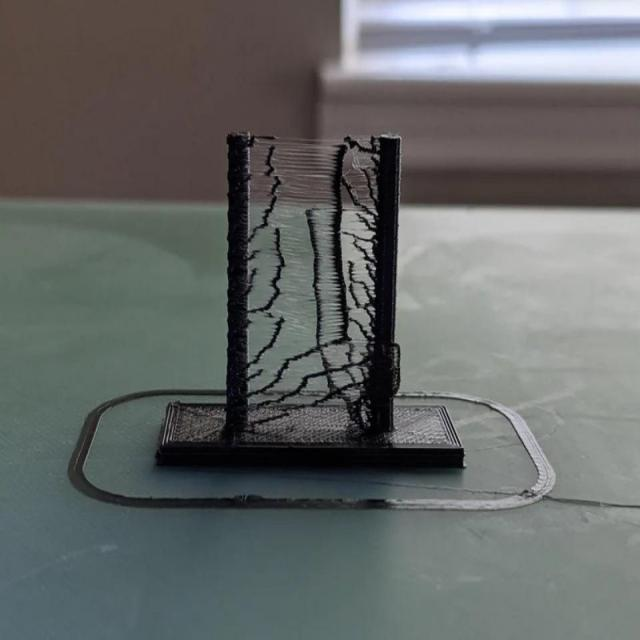stringing: (250, 132, 379, 432)
